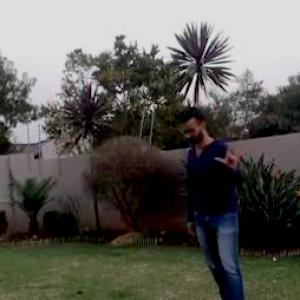land_hand: (215, 140, 247, 172)
